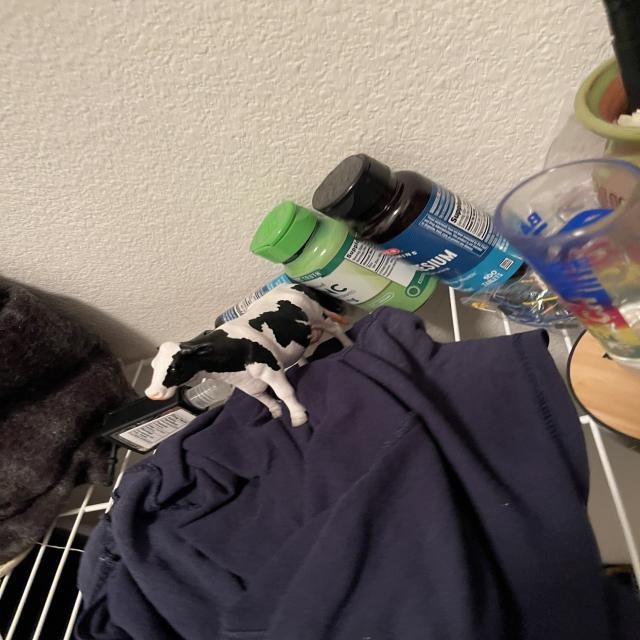cow: (136, 271, 357, 430)
